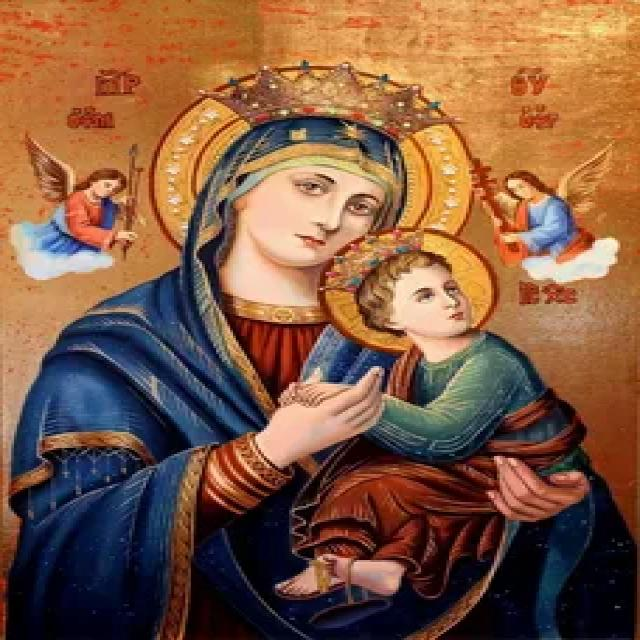mother of god: (0, 103, 640, 640)
